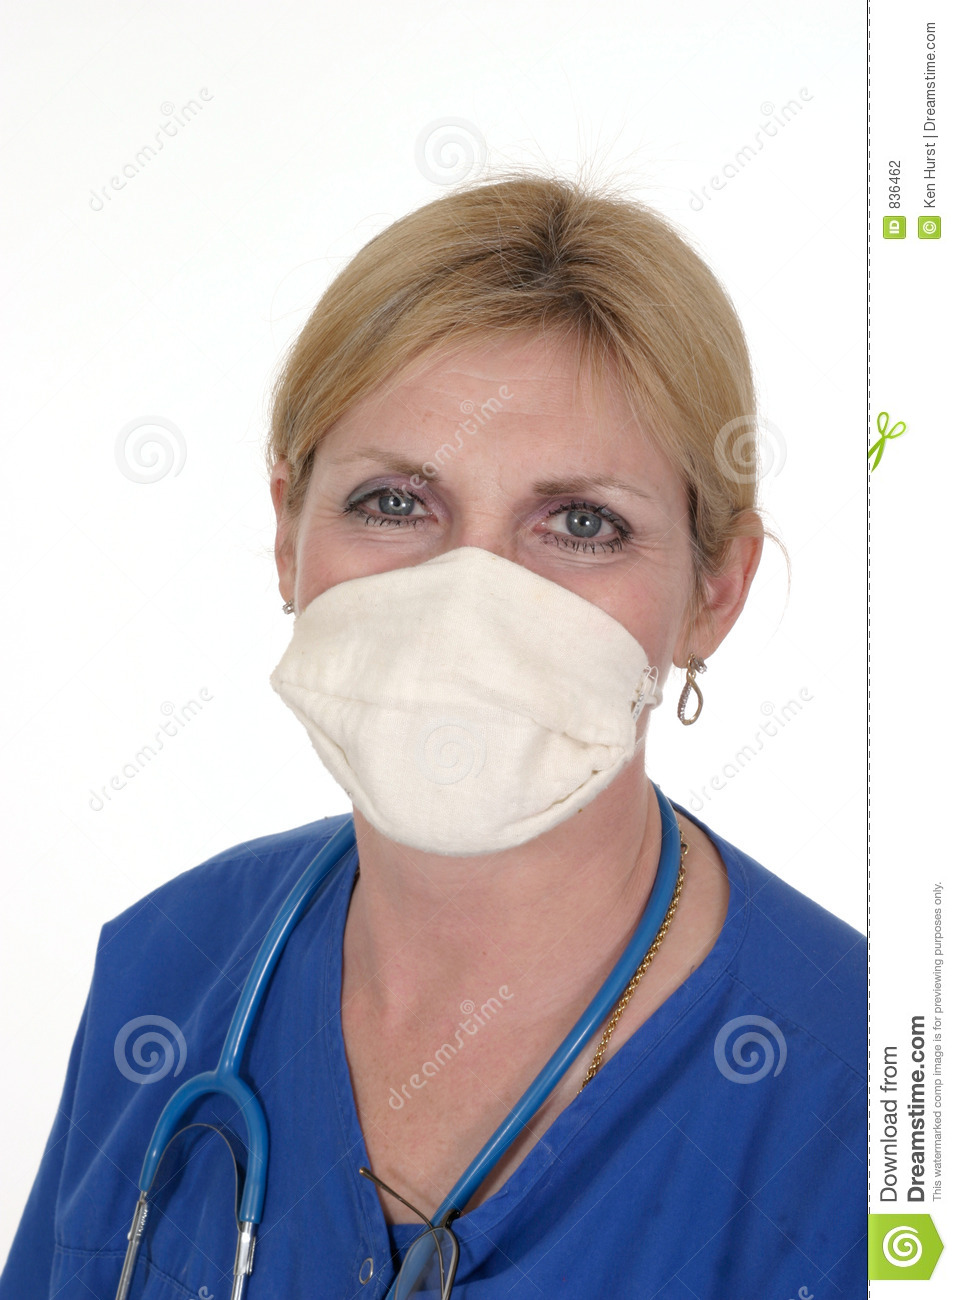mask: (250, 531, 658, 863)
